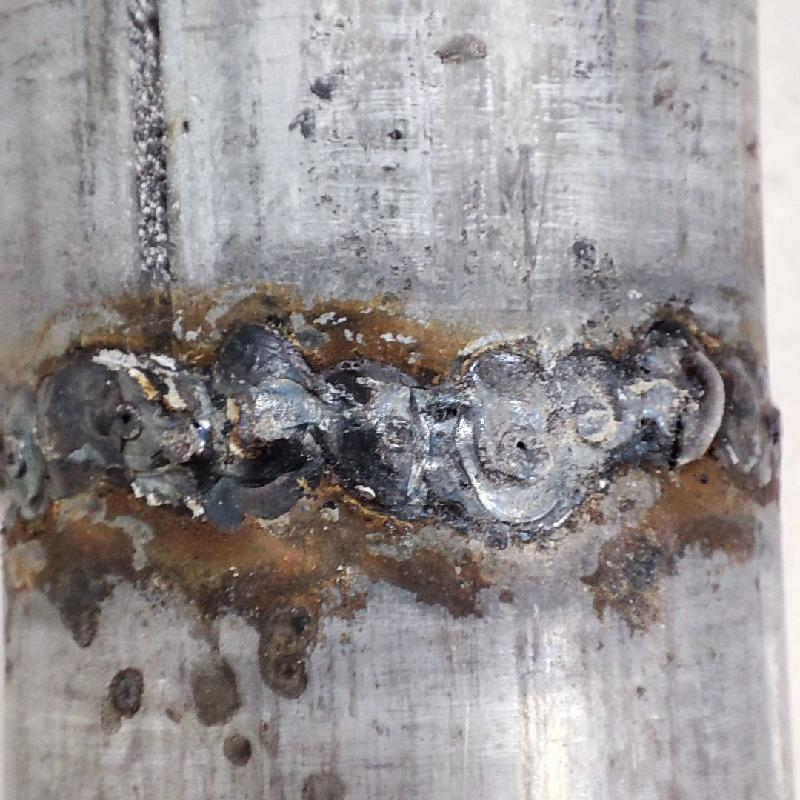Not_fully_soldered: (429, 340, 638, 525)
Surface_pores: (97, 390, 159, 450), (502, 423, 556, 480)
wrong_size: (6, 335, 428, 515), (671, 315, 781, 491)
